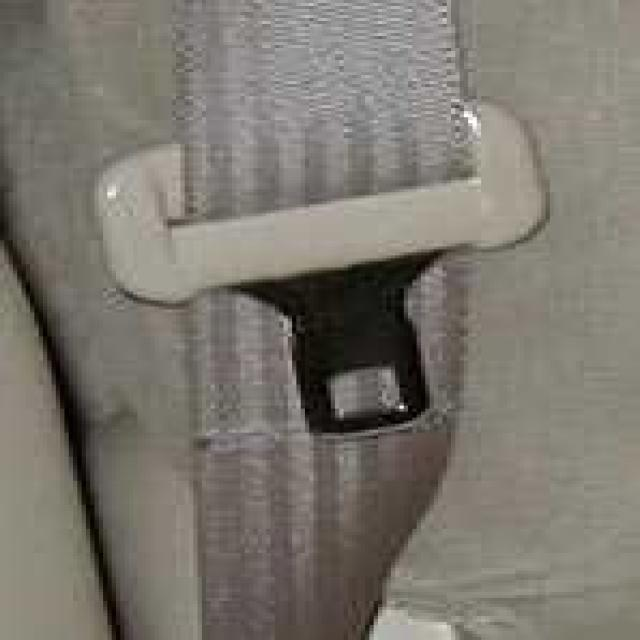seatbelt: (111, 12, 512, 577)
